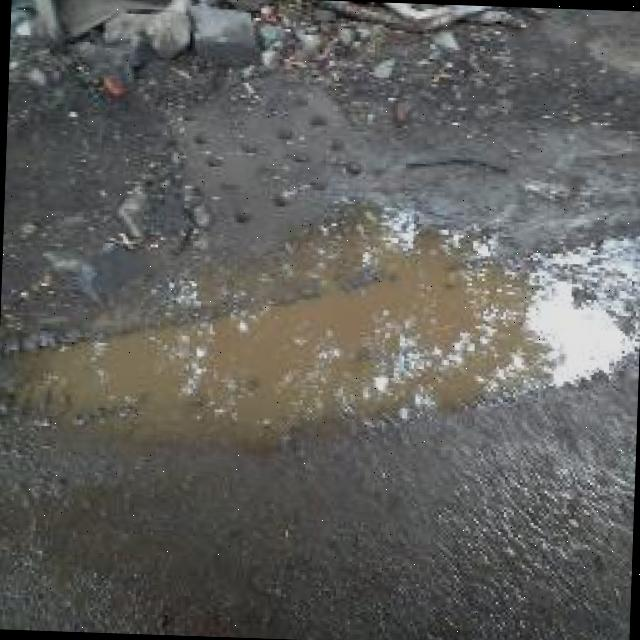waterlogging: (0, 226, 636, 467)
